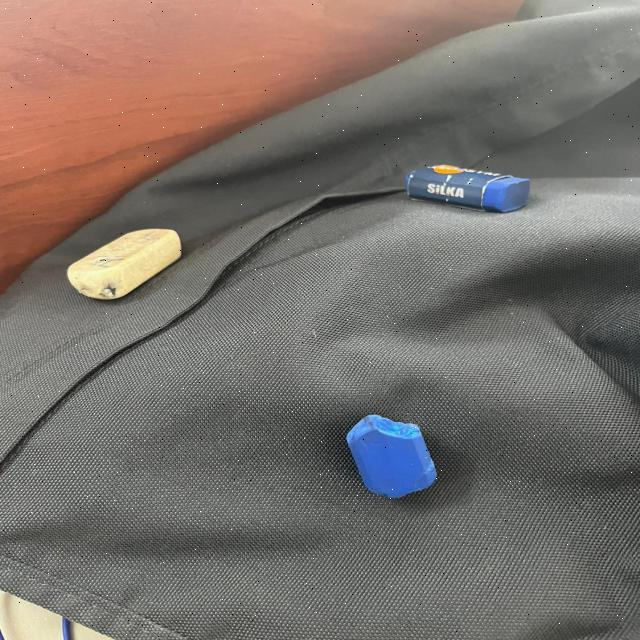eraser: (62, 221, 204, 307), (336, 410, 443, 500), (392, 154, 534, 216)
